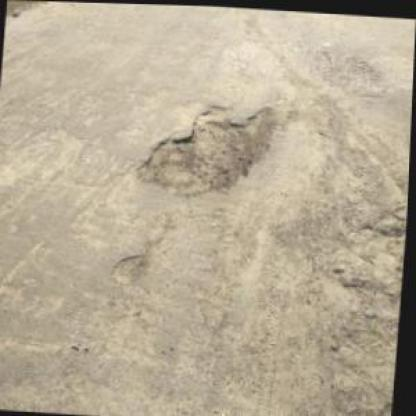pothole: (133, 96, 280, 204), (111, 250, 152, 287)
